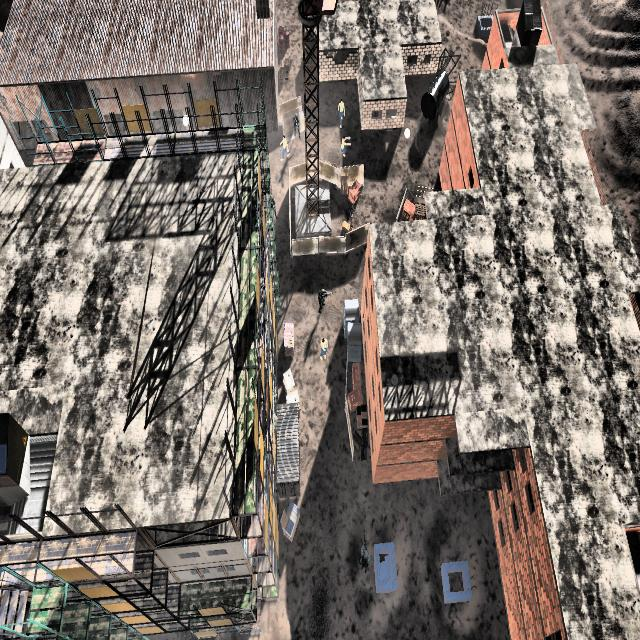bad: (312, 277, 332, 323), (357, 541, 372, 578), (291, 108, 305, 140)
good: (277, 128, 291, 169), (339, 125, 350, 167), (318, 332, 330, 370), (336, 95, 346, 127)
